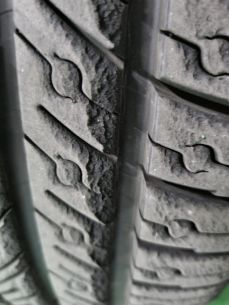bad_condition: (2, 1, 229, 303)
